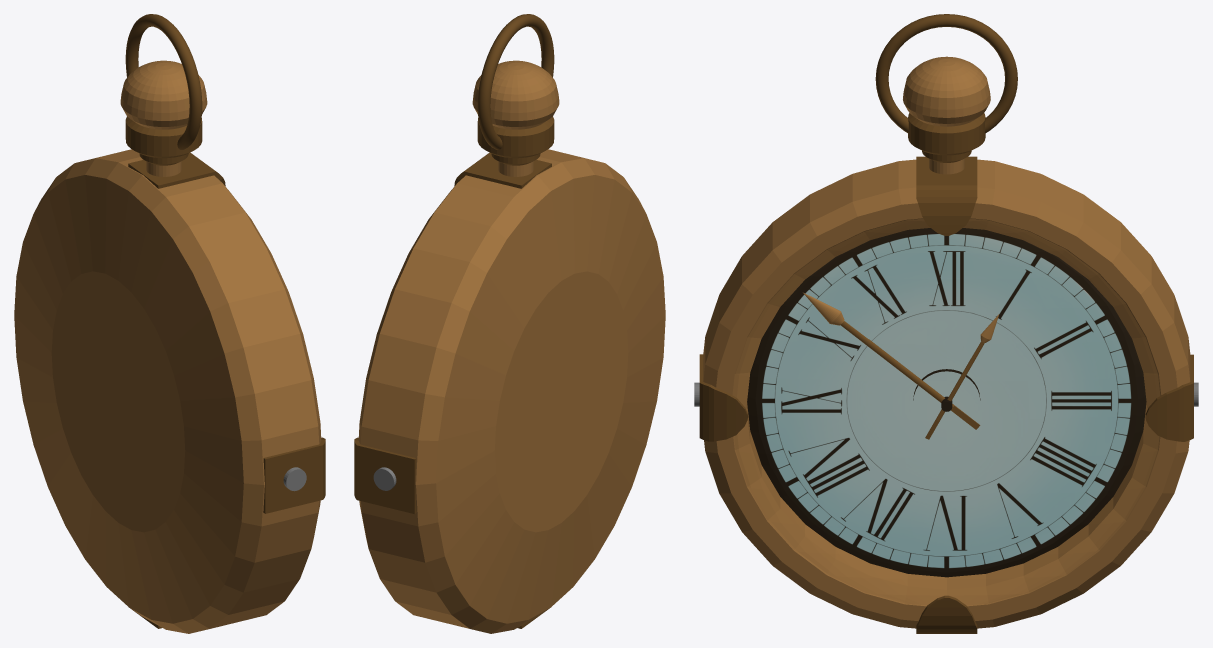
Rendered from Nexus.fbx.
3 views of the same model, side by side, from view 1: azimuth 30°, elevation 25°; view 2: azimuth 150°, elevation 25°; view 3: azimuth 270°, elevation 25° (orthographic).
Parts seen in each view (by area): view 1: clock body, Top Bulb, Left, Top ring, Top part1, Top, Left Screw; view 2: clock body, Top Bulb, Right, Top ring, Top part1, Top; view 3: clock body, front glass, Top Bulb, Top ring, Top, Left, Right, Top part1, Bottom, hand base 2.
Boxes of the visible parts, left/top/right/bottom form: clock body: left=14, top=149, right=321, bottom=633; Top Bulb: left=120, top=60, right=207, bottom=129; Left: left=263, top=437, right=325, bottom=513; Top ring: left=125, top=14, right=202, bottom=149; Top part1: left=125, top=116, right=202, bottom=158; Top: left=128, top=152, right=225, bottom=188; Left Screw: left=283, top=467, right=306, bottom=491; clock body: left=358, top=149, right=665, bottom=633; Top Bulb: left=472, top=60, right=559, bottom=129; Right: left=354, top=437, right=416, bottom=513; Top ring: left=477, top=14, right=554, bottom=149; Top part1: left=477, top=116, right=554, bottom=158; Top: left=454, top=152, right=551, bottom=188; clock body: left=703, top=159, right=1190, bottom=628; front glass: left=734, top=219, right=1159, bottom=604; Top Bulb: left=903, top=56, right=990, bottom=126; Top ring: left=875, top=14, right=1017, bottom=133; Top: left=916, top=156, right=977, bottom=235; Left: left=699, top=354, right=747, bottom=441; Right: left=1145, top=354, right=1193, bottom=441; Top part1: left=908, top=113, right=985, bottom=155; Bottom: left=916, top=595, right=977, bottom=633; hand base 2: left=840, top=321, right=980, bottom=429.
Bounding box in the file's own units: 82.29 × 452 × 341.
